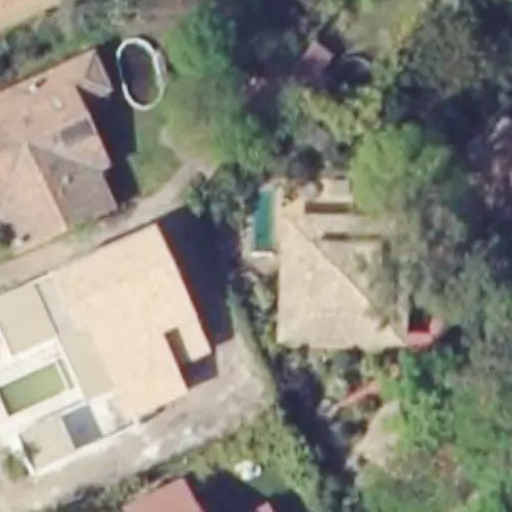pool: (245, 208, 266, 275)
